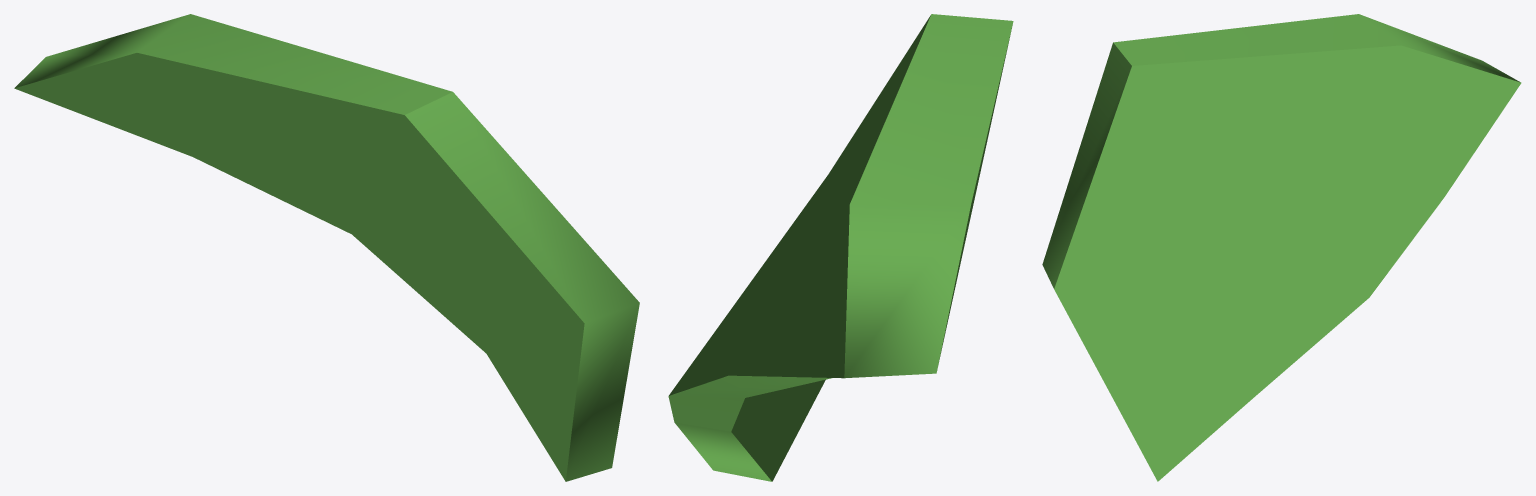
Rendered from Namerica.fbx.
3 views of the same model, side by side, from view 1: azimuth 30°, elevation 25°; view 2: azimuth 150°, elevation 25°; view 3: azimuth 270°, elevation 25° (orthographic). The views are drawn at different scales.
Visible parts, largest first — view 1: pCube7; view 2: pCube7; view 3: pCube7.
Part boxes in pixels (box(x1,y1,x2,y2)): pCube7: box(14, 14, 639, 481); pCube7: box(668, 14, 1013, 481); pCube7: box(1042, 14, 1521, 481).
Size of the model in its own units: 11.37 by 11.79 by 14.75.
